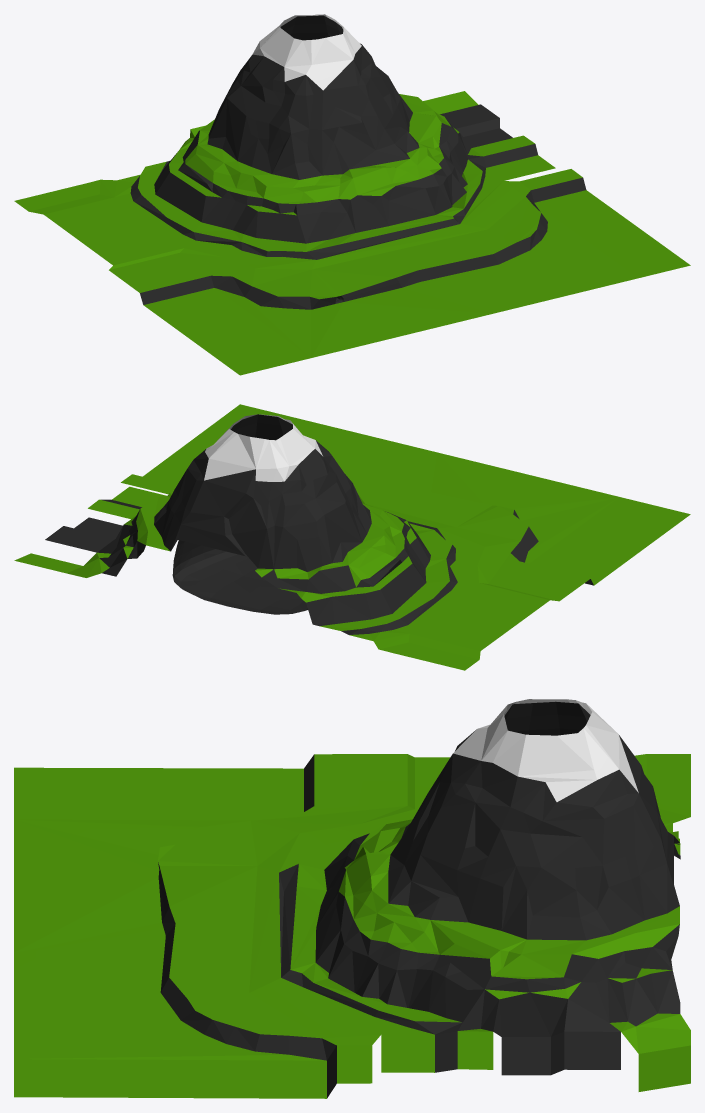
The model's file is Arena_and_Mountain_Simple_Corrected.fbx.
The picture shows the model from 3 angles, top to bottom: view 1: azimuth 30°, elevation 25°; view 2: azimuth 150°, elevation 25°; view 3: azimuth 270°, elevation 25°; orthographic projection. The views are drawn at different scales.
Visible parts, largest first — view 1: Mountain, Mountain Chao, Arena; view 2: Mountain, Mountain Chao, Arena; view 3: Mountain, Mountain Chao, Arena.
Part boxes in pixels (left/top/right/bottom): Mountain: left=14, top=14, right=586, bottom=309; Mountain Chao: left=143, top=190, right=690, bottom=375; Arena: left=280, top=15, right=343, bottom=303; Mountain: left=14, top=414, right=593, bottom=670; Mountain Chao: left=143, top=404, right=690, bottom=585; Arena: left=172, top=414, right=307, bottom=614; Mountain: left=158, top=699, right=690, bottom=1098; Mountain Chao: left=14, top=767, right=326, bottom=1098; Arena: left=158, top=701, right=590, bottom=866.
Size of the model in its own units: 14254 by 4812 by 12367.
